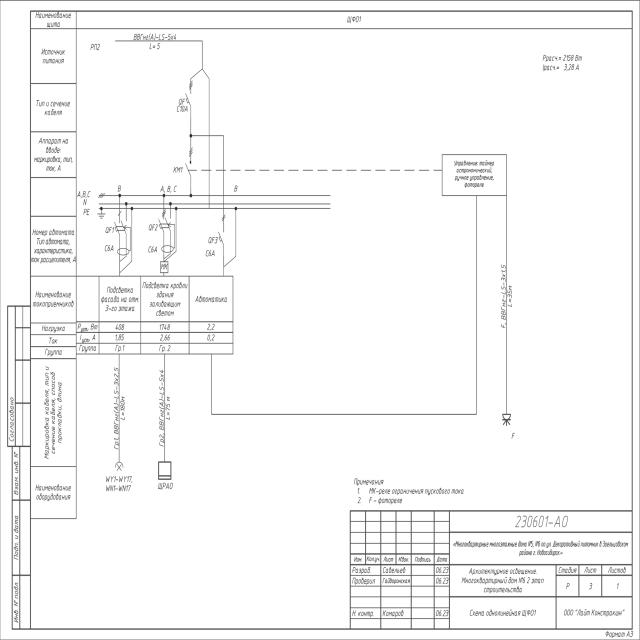-: (345, 14, 363, 27), (172, 164, 184, 174), (176, 105, 189, 114), (148, 243, 158, 254), (104, 242, 114, 253), (204, 249, 216, 258)
KM: (185, 159, 192, 178)
QF: (218, 214, 226, 246), (184, 80, 193, 108)
QFD: (113, 210, 132, 256), (158, 208, 176, 254)
